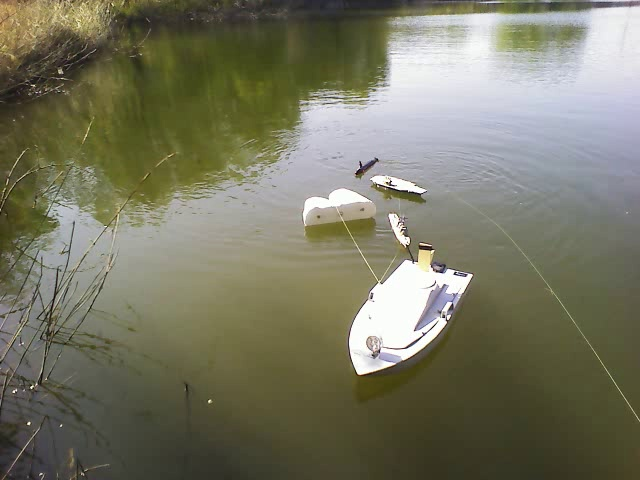aircraft_carrier: (369, 173, 429, 197)
boat: (347, 252, 474, 382)
iceberg: (303, 187, 376, 224)
submarine: (349, 156, 381, 176)
warship: (389, 208, 416, 249)
